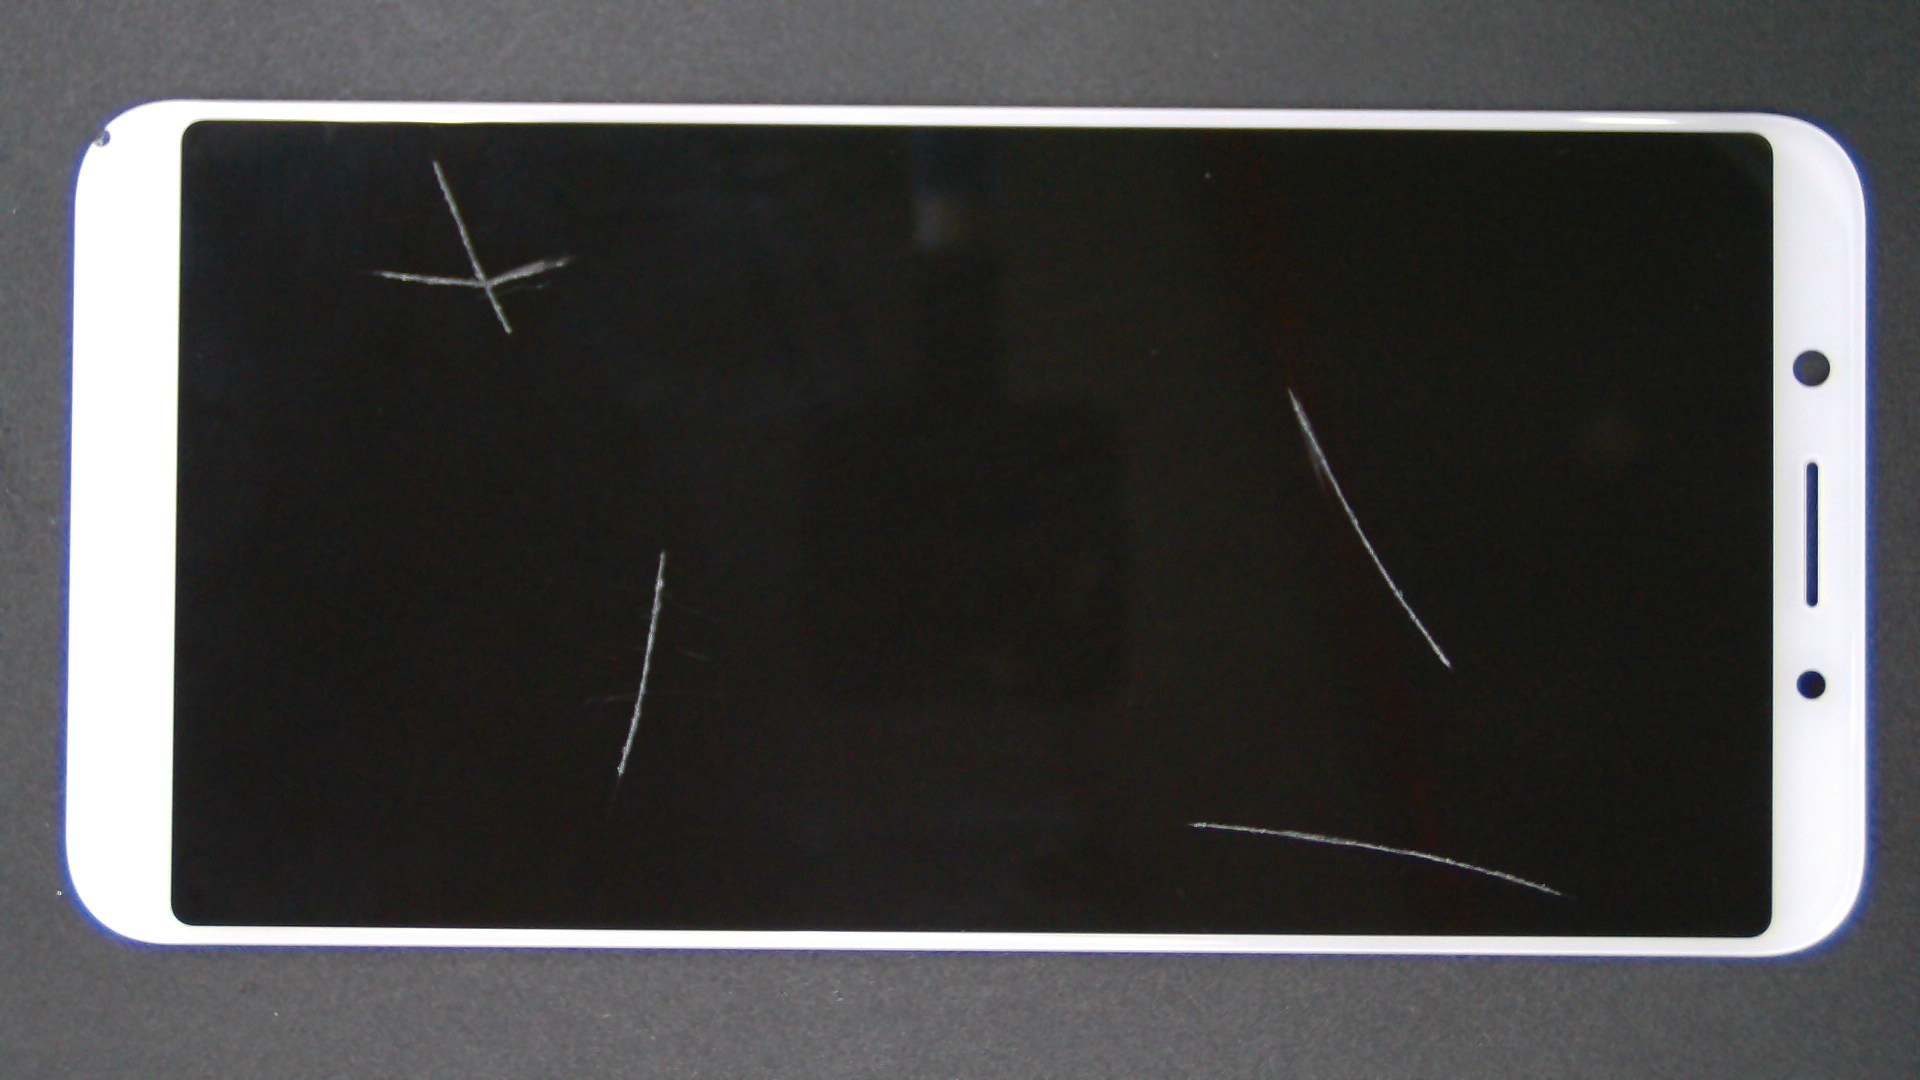oil: (599, 410, 1795, 1080), (644, 193, 1920, 582), (331, 274, 993, 825), (218, 79, 651, 239)
